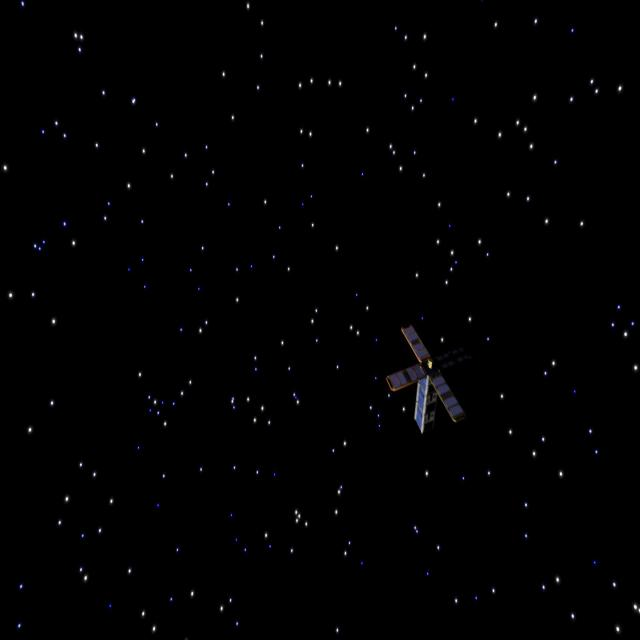medium_debris: (384, 316, 472, 441)
